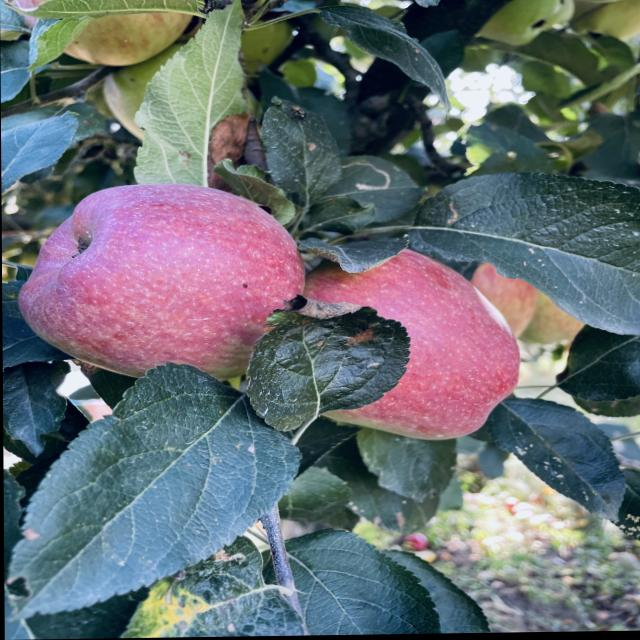Apple: (18, 184, 305, 381), (303, 250, 519, 441), (64, 13, 192, 67), (470, 264, 537, 339), (519, 294, 583, 346)
